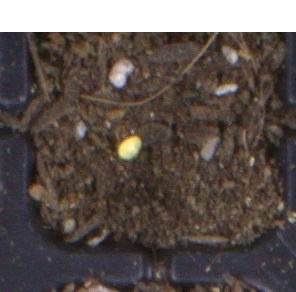chilli seed: (117, 135, 142, 161)
